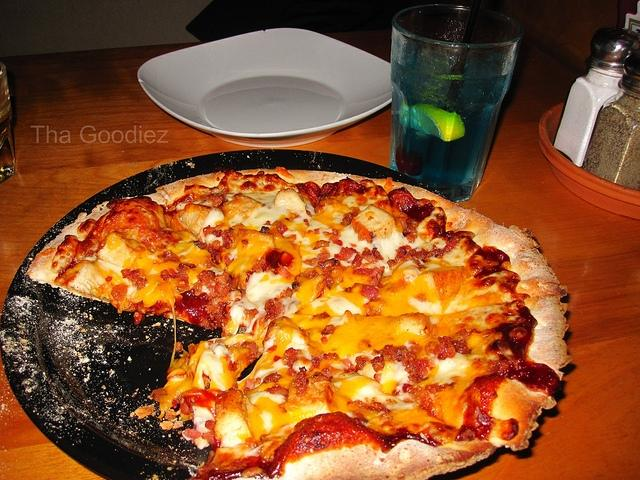lemon: (408, 103, 466, 142)
